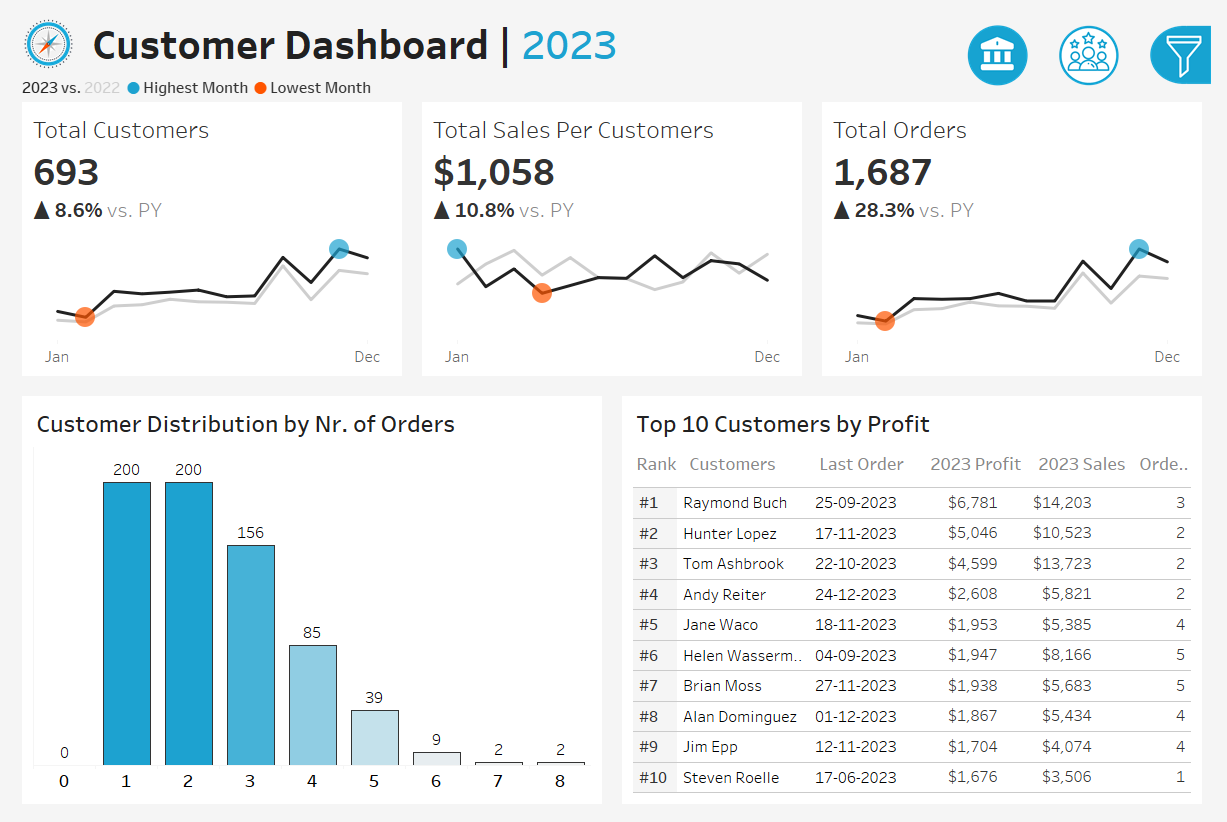

The dashboard page shown, as its layout file describes it:
{"tool":"tableau","page":{"name":"Customer Dashboard","canvas":[1200,800],"ordinal":0},"visuals":[{"type":"image","param":"Image/Icon - Logo.png","box":[0,0,73,59]},{"type":"text","box":[73,0,820,59]},{"type":"dashboard-object","box":[940,6,91,70]},{"type":"dashboard-object","box":[1031,6,91,70]},{"type":"blank","box":[952,10,237,86]},{"type":"worksheet","title":"Legend KPI","mark":"Automatic","box":[0,59,1200,29]},{"type":"worksheet","title":"KPI Customers","mark":"Automatic","rows":["Min/Max Quantity (copy)_3221481164588691468"],"cols":["Order Date"],"box":[0,88,400,284]},{"type":"worksheet","title":"KPI Sales Per Customers","mark":"Automatic","rows":["Min/Max Quantity (copy)_3221481164537155591"],"cols":["Order Date"],"box":[400,88,400,284]},{"type":"worksheet","title":"KPI Orders","mark":"Automatic","rows":["Min/Max Sales (copy)_3221481164601258003"],"cols":["Order Date"],"box":[800,88,400,284]},{"type":"text","box":[952,96,237,40]},{"type":"parameter","param":"[Parameters].[Parameter 1]","box":[952,136,237,56]},{"type":"text","box":[952,192,237,33]},{"type":"filter","title":"KPI Customers","param":"[federated.1kpxa041aiai2y1cl4pui1t4eju9].[none:Category:nk]","box":[952,225,237,61]},{"type":"filter","title":"KPI Customers","param":"[federated.1kpxa041aiai2y1cl4pui1t4eju9].[none:Sub-Category:nk]","box":[952,286,237,61]},{"type":"blank","box":[952,347,237,60]},{"type":"text","box":[17,389,566,40]},{"type":"text","box":[617,389,566,40]},{"type":"text","box":[952,407,237,33]},{"type":"worksheet","title":"Customer Distribution","mark":"Bar","rows":["CY Sales (copy)_3221481164532666369"],"cols":["Calculation_998110323739992064"],"box":[17,429,566,354]},{"type":"text","box":[617,429,53,40]},{"type":"text","box":[670,429,130,40]},{"type":"text","box":[800,429,111,40]},{"type":"text","box":[911,429,108,40]},{"type":"text","box":[1019,429,101,40]},{"type":"text","box":[1120,429,63,40]},{"type":"filter","title":"KPI Customers","param":"[federated.1kpxa041aiai2y1cl4pui1t4eju9].[none:Region:nk]","box":[952,440,237,61]},{"type":"worksheet","title":"Top Customers","mark":"Automatic","rows":["Calculation_782500491678904334","Customer Name","Order Date"],"box":[617,469,566,314]},{"type":"filter","title":"KPI Customers","param":"[federated.1kpxa041aiai2y1cl4pui1t4eju9].[none:State:nk]","box":[952,501,237,61]},{"type":"filter","title":"KPI Customers","param":"[federated.1kpxa041aiai2y1cl4pui1t4eju9].[none:City:nk]","box":[952,562,237,61]}]}

Visuals, with their boxes in screenshot pixels (x1, y1, x2, y2), scaled from the page's 1200x800 canvas onto the 1227x822 screenshot:
image: [0,0,75,61]
text: [75,0,913,61]
dashboard-object: [961,6,1054,78]
dashboard-object: [1054,6,1147,78]
blank: [973,10,1216,99]
"Legend KPI" worksheet: [0,61,1226,90]
"KPI Customers" worksheet: [0,90,409,382]
"KPI Sales Per Customers" worksheet: [409,90,818,382]
"KPI Orders" worksheet: [818,90,1226,382]
text: [973,99,1216,140]
parameter: [973,140,1216,197]
text: [973,197,1216,231]
"KPI Customers" filter: [973,231,1216,294]
"KPI Customers" filter: [973,294,1216,357]
blank: [973,357,1216,418]
text: [17,400,596,441]
text: [631,400,1210,441]
text: [973,418,1216,452]
"Customer Distribution" worksheet (Bar marks): [17,441,596,805]
text: [631,441,685,482]
text: [685,441,818,482]
text: [818,441,931,482]
text: [931,441,1042,482]
text: [1042,441,1145,482]
text: [1145,441,1210,482]
"KPI Customers" filter: [973,452,1216,515]
"Top Customers" worksheet: [631,482,1210,805]
"KPI Customers" filter: [973,515,1216,577]
"KPI Customers" filter: [973,577,1216,640]
